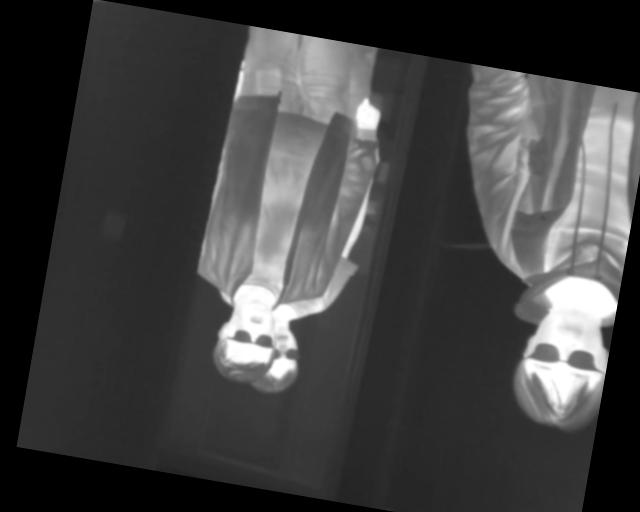face: (506, 292, 616, 438), (211, 297, 281, 387), (253, 322, 306, 398)
